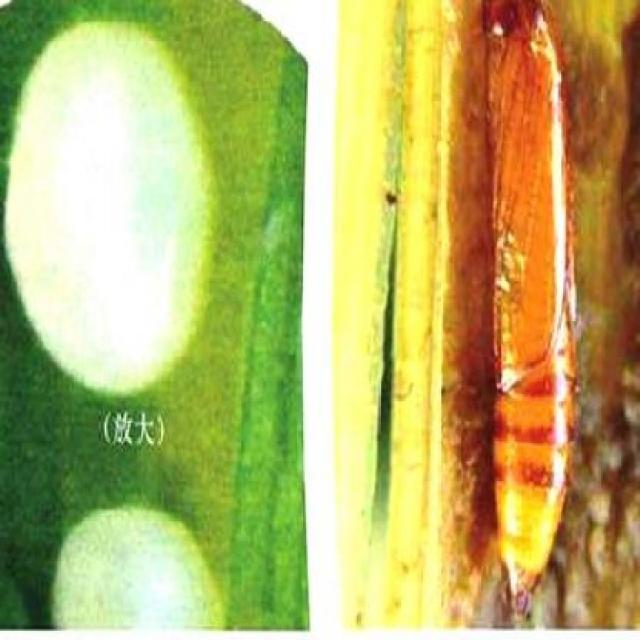whorl-maggot: (474, 0, 591, 640)
